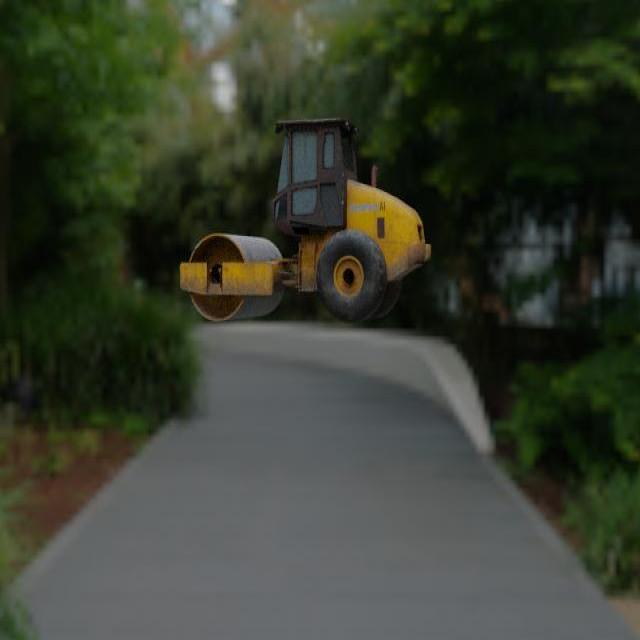Roller: (179, 117, 431, 323)
